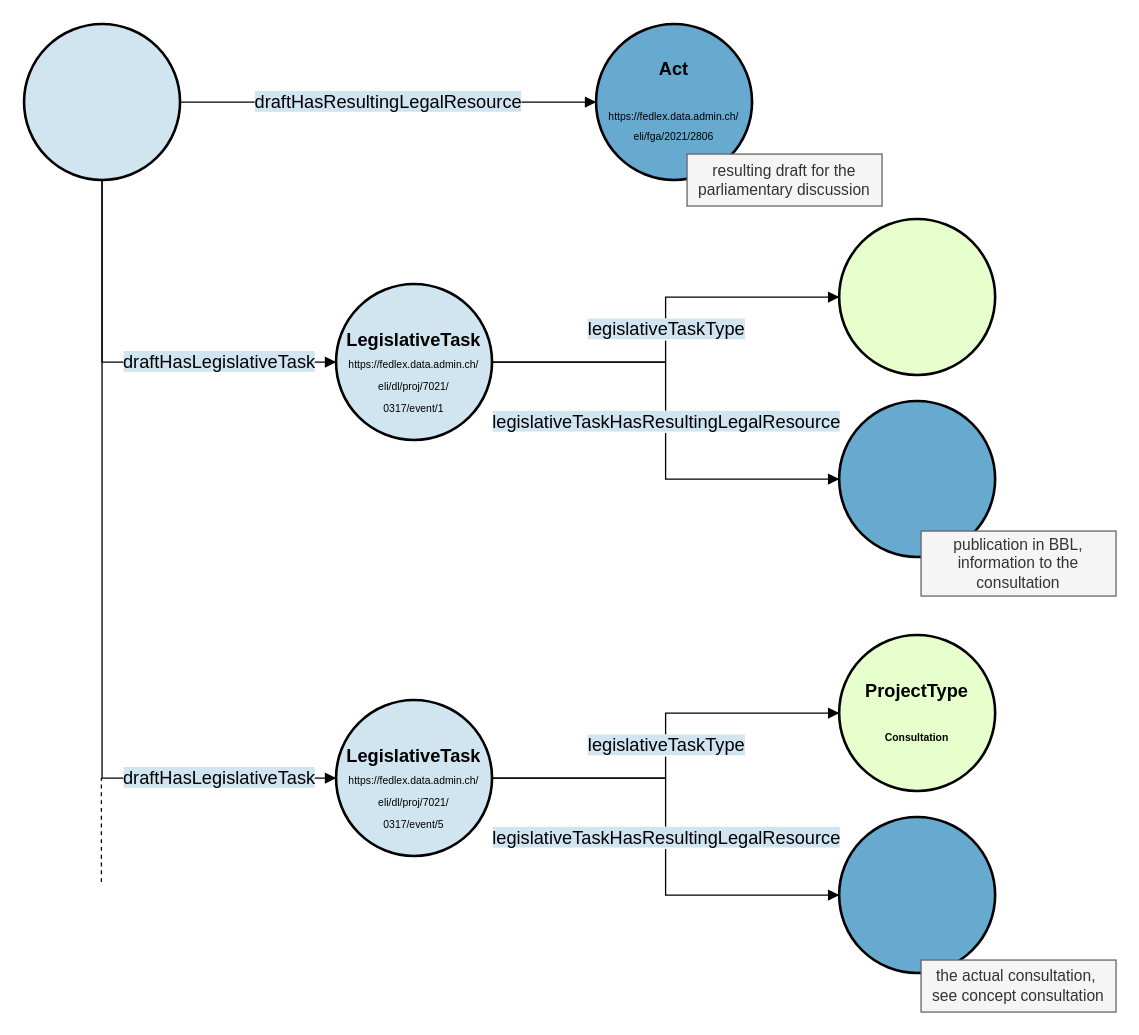
The diagram is 1139 pixels wide and 1035 high, and some of its shapes have lost their labels. The centre of each missing label's shape, as x and y in pixels:
Act https://fedlex.data.admin.ch/ eli/fga/2021/761: point 916,478
Consultation https://fedlex.data.admin.ch/ eli/dl/proj/2021/57/cons_1: point 916,894
Draft https://fedlex.data.admin.ch/ eli/dl/proj/7021/0317: point 101,101
ProjectType Opening of Consultation: point 916,296
